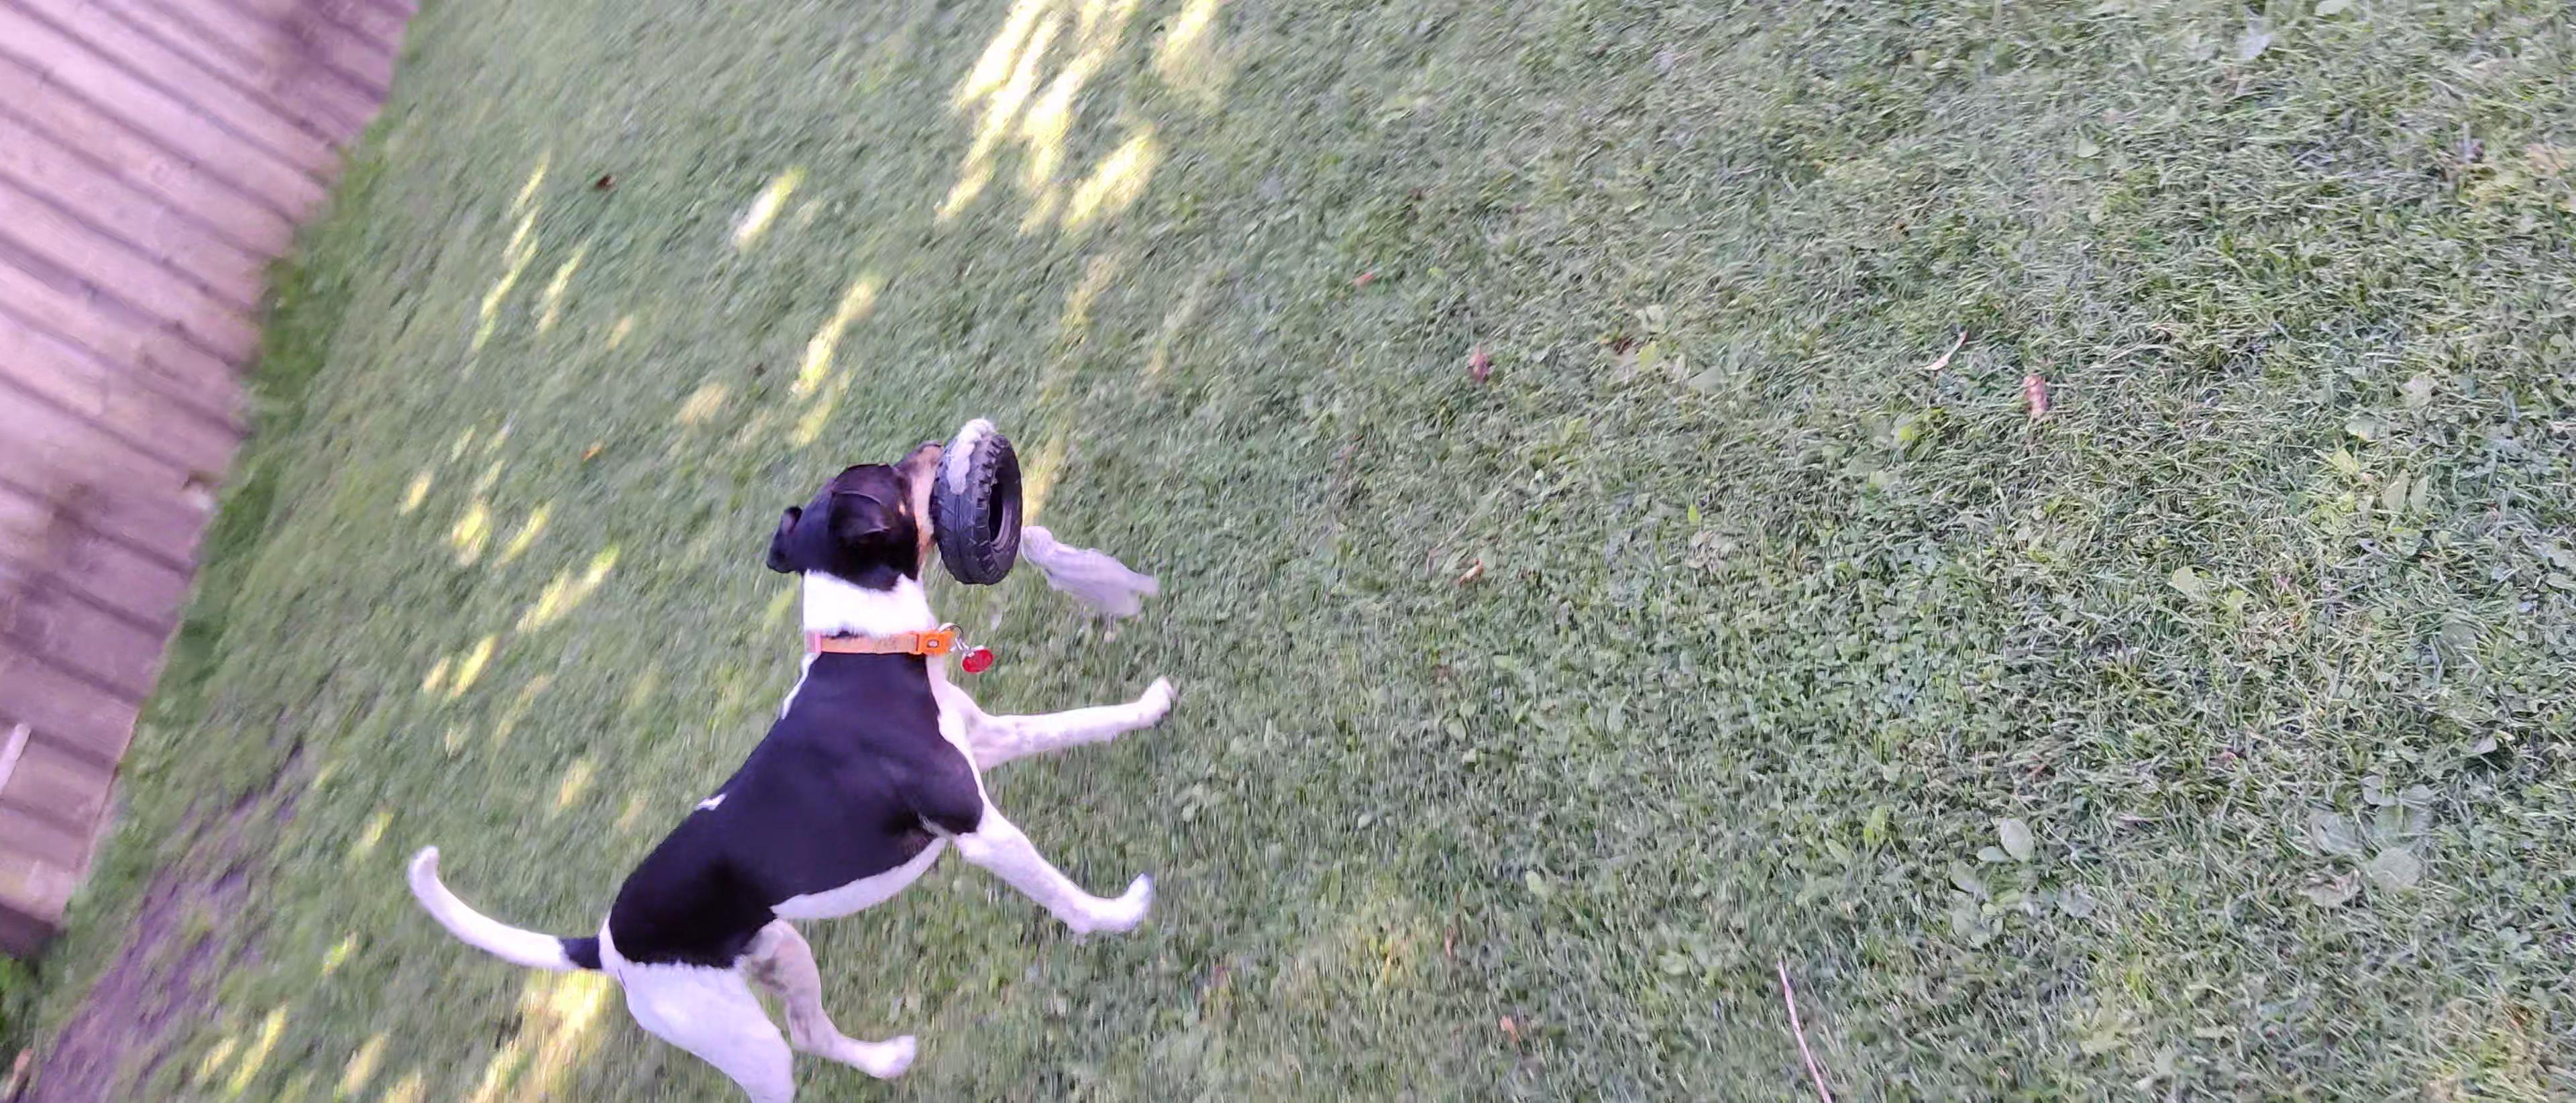Dog: (391, 439, 1194, 1103)
